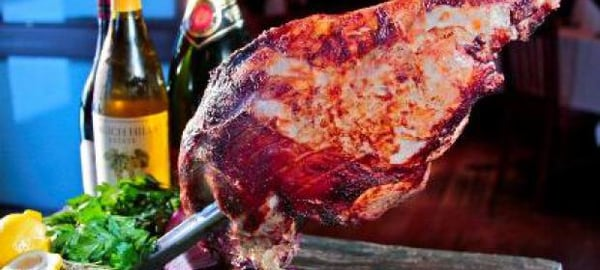curry: (43, 179, 180, 270)
